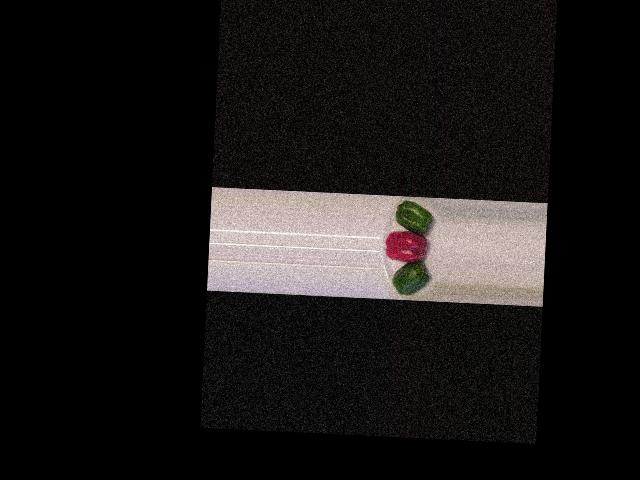bell_pepper: (387, 259, 433, 298)
